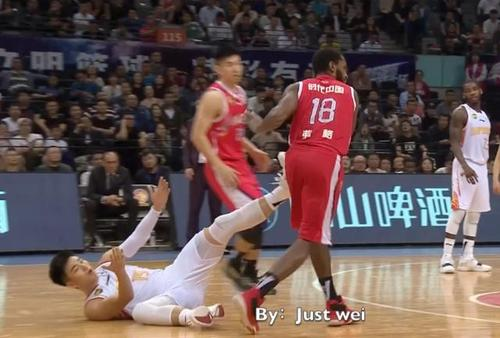10+: (1, 1, 499, 333)
down: (44, 147, 295, 330)
